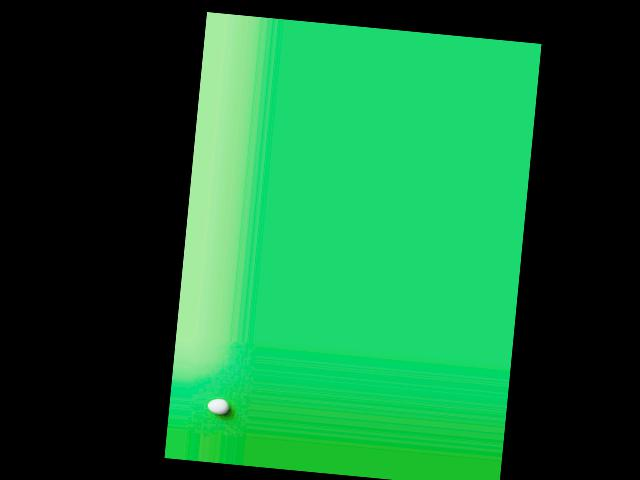egg: (207, 398, 229, 415)
